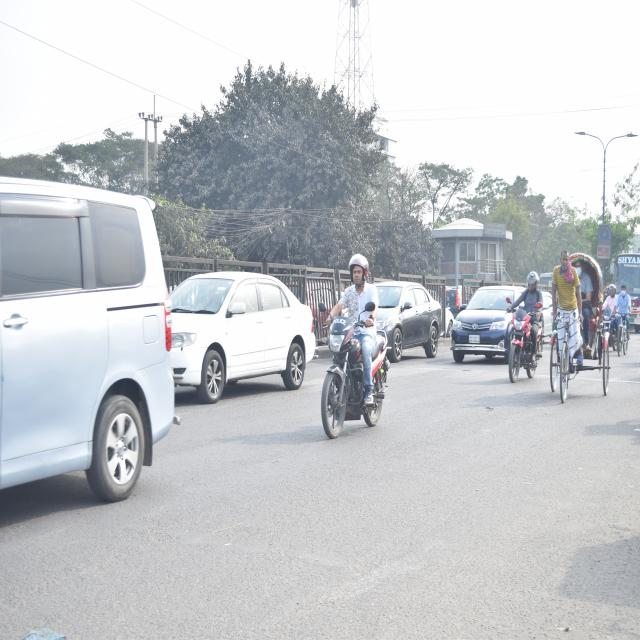bus: (615, 245, 640, 338)
car: (0, 159, 173, 503), (172, 266, 316, 403), (375, 272, 444, 366), (448, 281, 512, 362)
motorbike: (310, 287, 394, 444), (498, 287, 544, 391)
